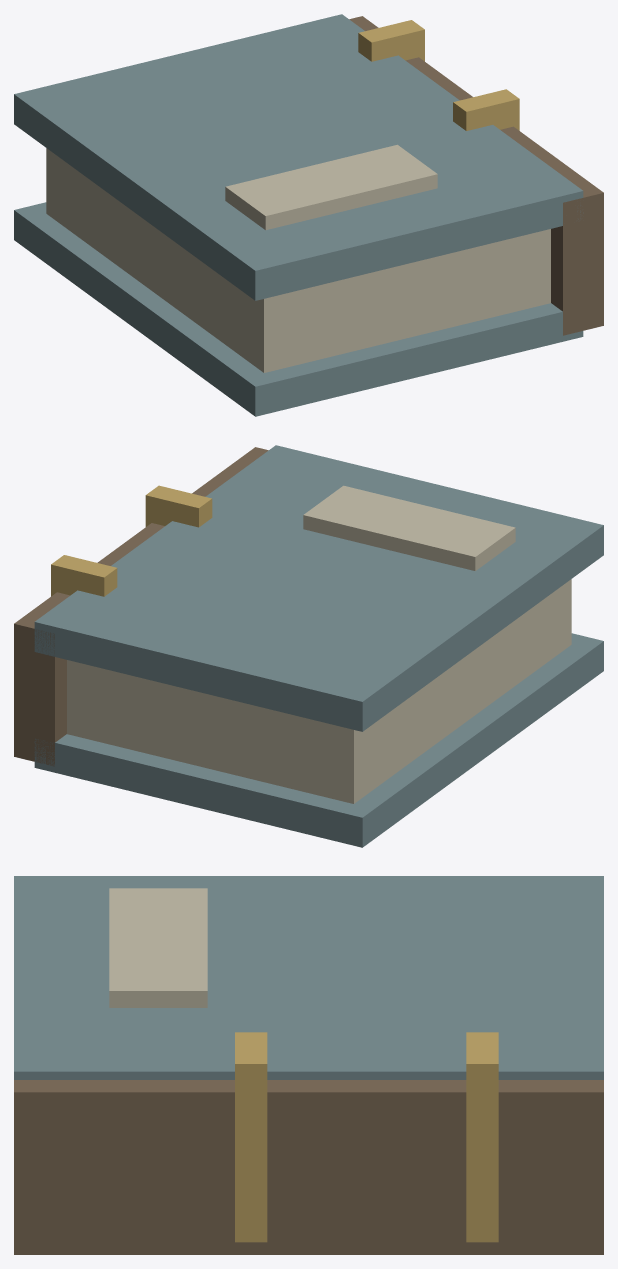
File: spread-portable-codex05.fbx
The picture shows the model from 3 angles, top to bottom: view 1: azimuth 30°, elevation 25°; view 2: azimuth 150°, elevation 25°; view 3: azimuth 270°, elevation 25°; orthographic projection. The views are drawn at different scales.
Parts seen in each view (by area): view 1: spread-portable-codex05__Geometry; view 2: spread-portable-codex05__Geometry; view 3: spread-portable-codex05__Geometry.
Boxes of the visible parts, left/top/right/bottom form: spread-portable-codex05__Geometry: left=14, top=14, right=603, bottom=416; spread-portable-codex05__Geometry: left=14, top=445, right=603, bottom=847; spread-portable-codex05__Geometry: left=14, top=876, right=603, bottom=1254.
Size of the model in its own units: 0.4325 by 0.1925 by 0.51.
